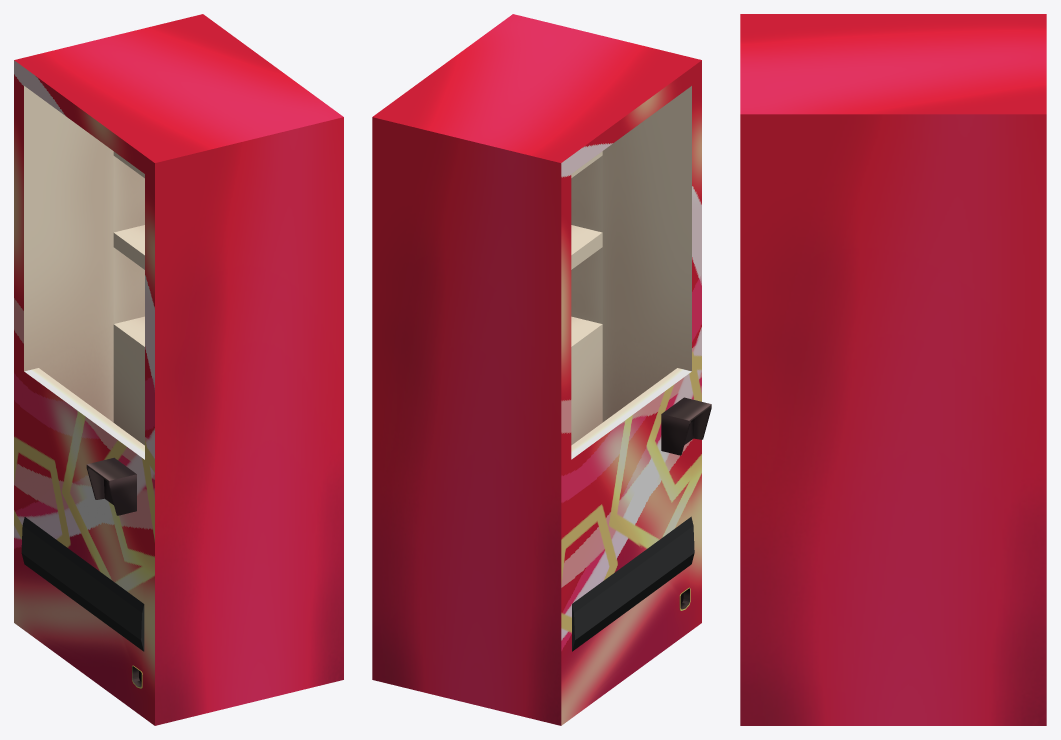
Rendered from Vending Machine.fbx.
3 views of the same model, side by side, from view 1: azimuth 30°, elevation 25°; view 2: azimuth 150°, elevation 25°; view 3: azimuth 270°, elevation 25° (orthographic). The views are drawn at different scales.
Visible parts, largest first — view 1: Box001; view 2: Box001; view 3: Box001.
Boxes of the visible parts, box(x1,y1,x2,y2) form: Box001: box(14, 14, 343, 725); Box001: box(372, 14, 711, 725); Box001: box(740, 14, 1046, 725).
Bounding box in the file's own units: 39.22 × 97.32 × 44.14.
